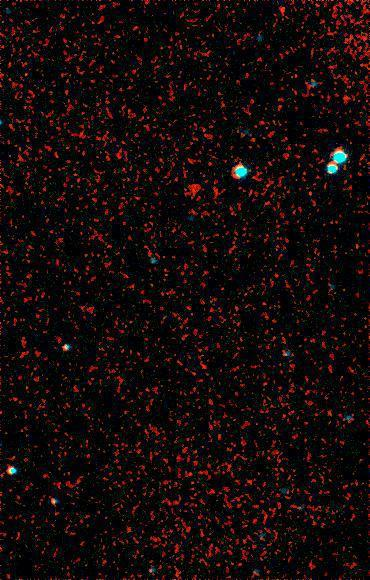star: (268, 0, 298, 24)
